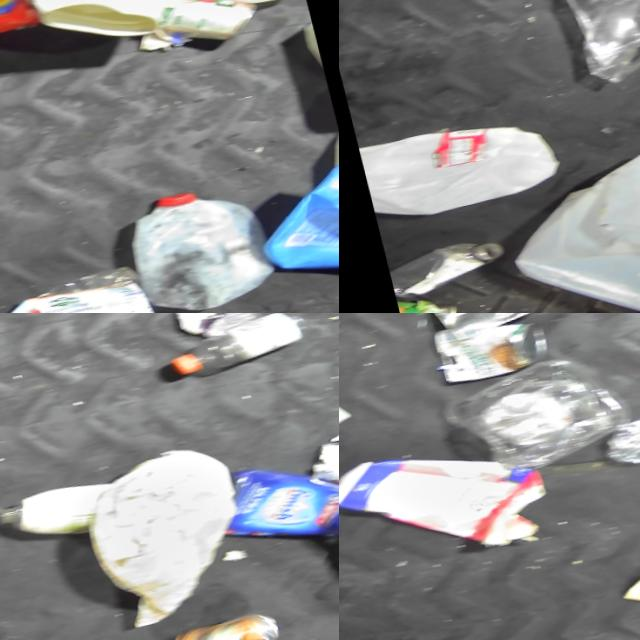can: (430, 314, 550, 389), (156, 0, 262, 50), (167, 606, 282, 640), (160, 313, 260, 338), (390, 288, 456, 313)
milk_jug: (486, 107, 640, 313), (352, 104, 565, 228), (114, 176, 275, 313), (293, 0, 332, 114)
non_white_jug: (242, 159, 339, 291), (10, 0, 165, 54)
plastic_bottle: (159, 313, 313, 378), (379, 234, 504, 303), (603, 391, 640, 488)
